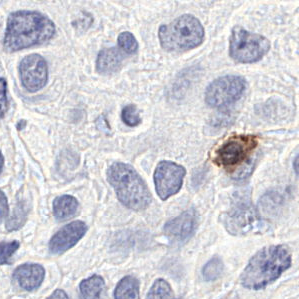Lymphocyte: (215, 133, 262, 172)
